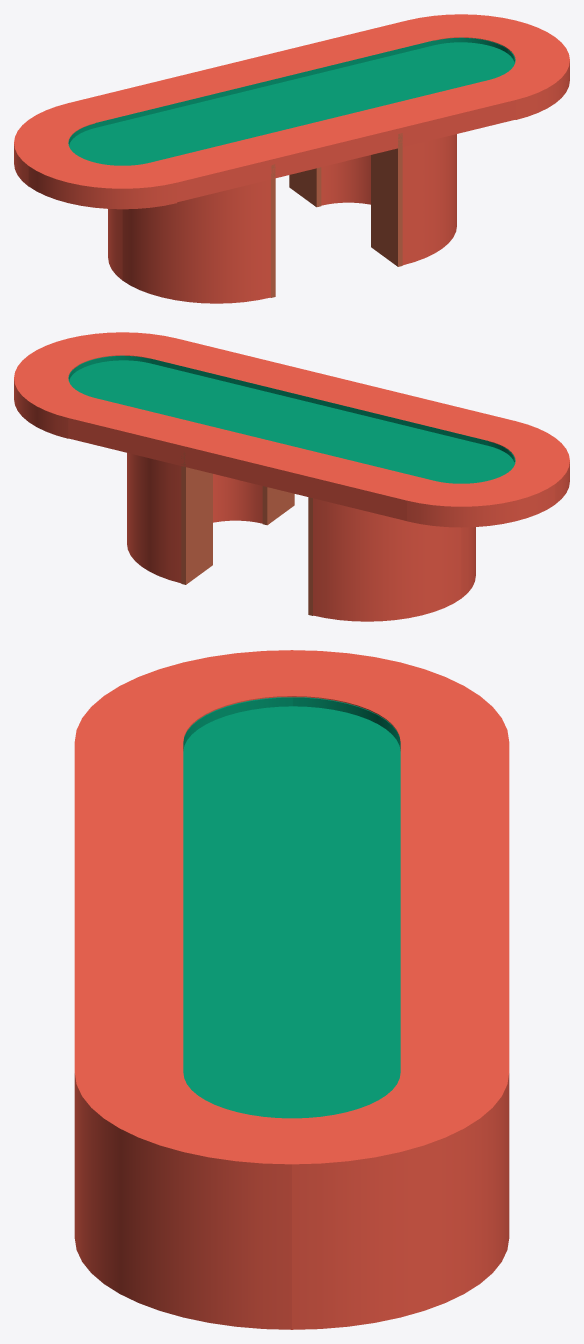
Rendered from pokertable.glb.
The picture shows the model from 3 angles, top to bottom: view 1: azimuth 30°, elevation 25°; view 2: azimuth 150°, elevation 25°; view 3: azimuth 270°, elevation 25°; orthographic projection. The views are drawn at different scales.
Visible parts, largest first — view 1: mergedBlocks(Clone); view 2: mergedBlocks(Clone); view 3: mergedBlocks(Clone).
Part boxes in pixels (left/top/right/bottom): mergedBlocks(Clone): left=14, top=14, right=569, bottom=303; mergedBlocks(Clone): left=14, top=332, right=569, bottom=621; mergedBlocks(Clone): left=74, top=650, right=509, bottom=1329.
Size of the model in its own units: 11.2 by 2.81 by 4.
1 material, 1 textured.
